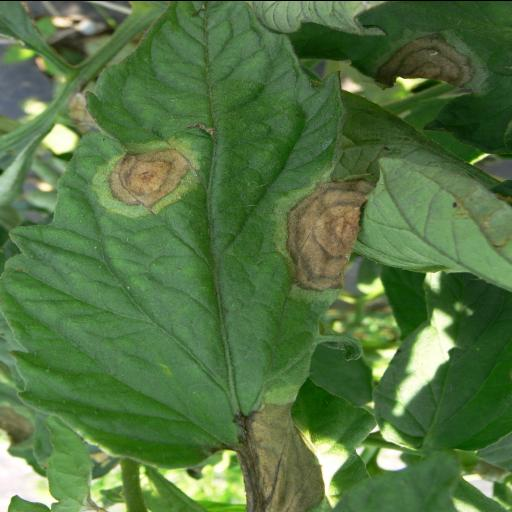disease_tomato: (2, 4, 372, 504)
